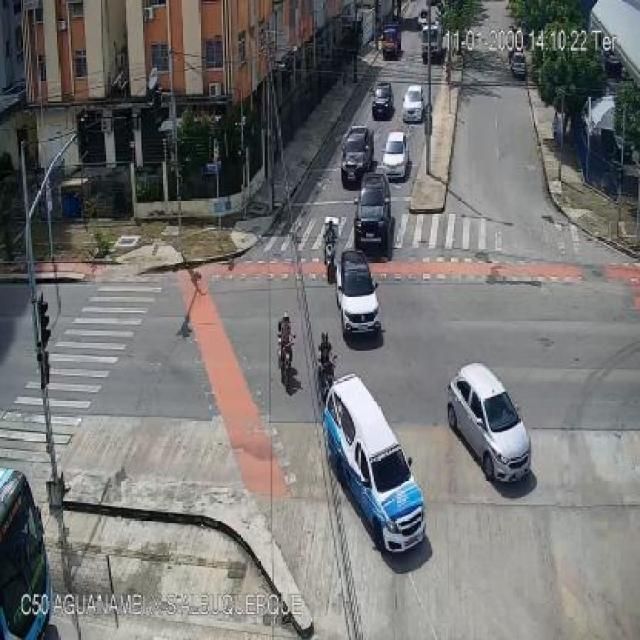Car: (448, 360, 530, 492), (336, 250, 380, 336), (352, 171, 395, 253), (340, 124, 376, 189), (380, 132, 410, 182), (370, 82, 395, 118), (401, 84, 424, 122)
Cycle: (276, 312, 297, 394), (316, 330, 336, 389), (322, 218, 338, 282)
Truck: (319, 372, 428, 564), (418, 20, 446, 63), (378, 22, 404, 59)
